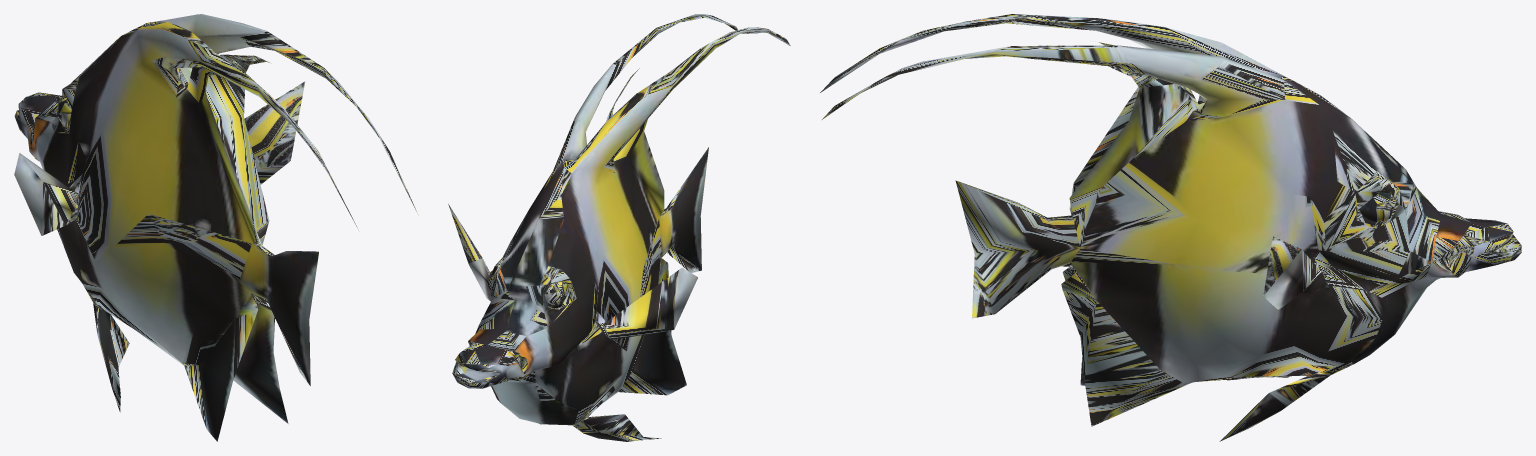
Rendered from moorse_afgod-ver.glb.
The picture shows the model from 3 angles, left to right: view 1: azimuth 30°, elevation 25°; view 2: azimuth 150°, elevation 25°; view 3: azimuth 270°, elevation 25°; orthographic projection. The views are drawn at different scales.
Visible parts, largest first — view 1: tripo_node_6e4dae7c-e8cd-452a-943a-2cd17fd021a0; view 2: tripo_node_6e4dae7c-e8cd-452a-943a-2cd17fd021a0; view 3: tripo_node_6e4dae7c-e8cd-452a-943a-2cd17fd021a0.
Part boxes in pixels (x1,y1,x2,y2): tripo_node_6e4dae7c-e8cd-452a-943a-2cd17fd021a0: (14,14,417,441); tripo_node_6e4dae7c-e8cd-452a-943a-2cd17fd021a0: (448,14,790,441); tripo_node_6e4dae7c-e8cd-452a-943a-2cd17fd021a0: (820,14,1521,441).
Size of the model in its own units: 0.2365 by 0.3 by 0.4993.
1 material, 1 textured.
